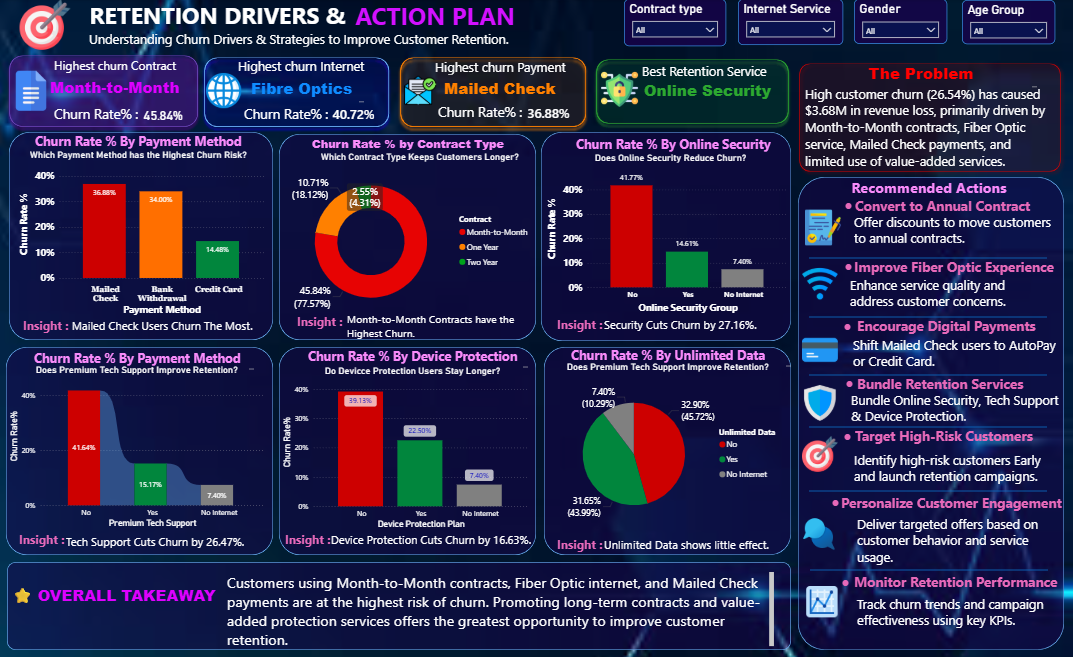

The dashboard page shown, as its layout file describes it:
{"tool":"powerbi","page":{"name":"Page 3","canvas":[1800,1100],"ordinal":2},"visuals":[{"type":"shape","box":[908.4,222.5,418.2,349.6],"z":0},{"type":"shape","box":[913.4,582.2,413.2,348],"z":1000},{"type":"shape","box":[470.1,582.2,429.9,348],"z":2000},{"type":"shape","box":[470.1,225.8,429.9,344.6],"z":3000},{"type":"shape","box":[13.4,582.2,446.7,348],"z":4000},{"type":"shape","box":[18.4,222.5,441.6,348],"z":5000},{"type":"textbox","title":"RETENTION DRIVERS &","box":[137.2,0,460,48.5],"z":6000},{"type":"textbox","title":"ACTION PLAN","box":[483.5,0,495.2,46.8],"z":7000},{"type":"textbox","title":"Understanding Churn Drivers & Strategies to Improve Customer Retention.","box":[147.2,51.9,752.8,36.8],"z":8000},{"type":"slicer","title":"Contract type","fields":{"Values":["cleaned_tc_cust_churn.Contract"]},"box":[1047.2,0,170.6,78.6],"z":9000},{"type":"slicer","title":"Internet Service","fields":{"Values":["cleaned_tc_cust_churn.Internet Service"]},"box":[1237.9,0,175.7,77],"z":10000},{"type":"slicer","title":"Gender","fields":{"Values":["cleaned_tc_cust_churn.gender short"]},"box":[1432,0,155.6,75.3],"z":11000},{"type":"slicer","title":"Age Group","fields":{"Values":["cleaned_tc_cust_churn.Age Group"]},"box":[1612.6,1.7,155.6,73.6],"z":12000},{"type":"shape","box":[9.5,85.3,333.4,137.5],"z":13000},{"type":"textbox","title":"Highest churn Contract","box":[88.5,96.4,218,26.9],"z":14000},{"type":"donutChart","title":"Churn Rate % by Contract Type","fields":{"Category":["cleaned_tc_cust_churn.Contract"],"Y":["cleaned_tc_cust_churn.ChurnFlag"]},"box":[471.7,227.5,428.3,329.6],"z":15000},{"type":"textbox","title":"Month-to-Month","box":[82.2,129.6,240.1,44.2],"z":16000},{"type":"textbox","title":"Churn Rate% :","box":[88.5,177,164.3,33.2],"z":17000},{"type":"cardVisual","title":"Avg Age","fields":{"Data":["cleaned_tc_cust_churn.Churn Rate%"],"Rows":["cleaned_tc_cust_churn.Contract"]},"box":[213.3,112.2,142.2,131.1],"z":18000},{"type":"shape","box":[336.5,88.5,327,134.3],"z":19000},{"type":"textbox","title":"Highest churn Internet","box":[396.6,96.4,233.8,36.3],"z":20000},{"type":"textbox","title":"Fibre Optics","box":[418.2,130.5,199.1,46.8],"z":21000},{"type":"shape","box":[663.6,88.5,328.6,134.3],"z":22000},{"type":"cardVisual","fields":{"Data":["cleaned_tc_cust_churn.Churn Rate%"],"Rows":["cleaned_tc_cust_churn.Internet Type"]},"box":[530.9,112.2,132.7,126.4],"z":23000},{"type":"textbox","title":"Highest churn Payment","box":[726,98.7,229.2,28.4],"z":24000},{"type":"shape","box":[992,92,339.6,125.5],"z":25000},{"type":"textbox","title":"Mailed Check","box":[741.1,130.5,229.2,45.2],"z":26000},{"type":"cardVisual","fields":{"Data":["cleaned_tc_cust_churn.Churn Rate%"],"Rows":["cleaned_tc_cust_churn.Payment Method"]},"box":[856.3,104.3,132.7,137.5],"z":27000},{"type":"textbox","title":"Online Security","box":[1075.7,133.8,245.9,38.5],"z":28000},{"type":"textbox","title":"Best Retention Service","box":[1072.3,105.4,249.3,55.2],"z":29000},{"type":"columnChart","title":"Churn Rate by Payment Method","fields":{"Category":["cleaned_tc_cust_churn.Payment Method"],"Y":["cleaned_tc_cust_churn.Churn Rate%"]},"box":[30.1,272.7,419.9,276],"z":30000},{"type":"clusteredColumnChart","title":"Churn Rate by Online Security","fields":{"Category":["cleaned_tc_cust_churn.Online Security Group"],"Y":["cleaned_tc_cust_churn.ChurnFlag"]},"box":[913.4,272.7,413.2,257.6],"z":31000},{"type":"ribbonChart","title":"Churn Rate by Premium Tech Support","fields":{"Category":["cleaned_tc_cust_churn.Premium Tech Support"],"Y":["cleaned_tc_cust_churn.Churn Rate%"]},"box":[13.4,607.2,436.6,297.8],"z":32000},{"type":"lineClusteredColumnComboChart","title":"Churn Rate by Device Protection","fields":{"Category":["cleaned_tc_cust_churn.Device Protection Plan"],"Y":["cleaned_tc_cust_churn.Churn Rate%"]},"box":[470.1,620.6,421.6,271],"z":33000},{"type":"pieChart","title":"Churn Rate by Unlimited Data","fields":{"Category":["cleaned_tc_cust_churn.Unlimited Data"],"Y":["cleaned_tc_cust_churn.ChurnFlag"]},"box":[916.7,629,404.8,264.3],"z":34000},{"type":"textbox","title":"Which Payment Method  has the Highest Churn Risk?","box":[49,246.5,391.8,26.9],"z":35000},{"type":"textbox","title":"Churn Rate% :","box":[731.5,173.8,153.3,33.2],"z":36000},{"type":"textbox","title":"Churn Rate% :","box":[406,177,164.3,33.2],"z":37000},{"type":"textbox","title":"Churn Rate % By Payment Method","box":[56.9,222.8,402.9,36.3],"z":38000},{"type":"textbox","title":"Mailed Check Users Churn The Most.","box":[118.8,533.6,331.2,31.8],"z":39000},{"type":"textbox","title":"Insight :","box":[37,532.4,86.9,31.6],"z":40000},{"type":"textbox","title":"Churn Rate % By Online Security","box":[961.9,227.5,341.3,36.8],"z":41000},{"type":"textbox","title":"Which Contract Type Keeps  Customers Longer?","box":[535.6,249.6,391.8,26.9],"z":42000},{"type":"textbox","title":"Insight :","box":[495,525,86.9,31.6],"z":43000},{"type":"textbox","title":"Month-to-Month Contracts have the Highest Churn.","box":[578.8,523.6,306.1,48.5],"z":44000},{"type":"textbox","title":"Does Online Security Reduce Churn?","box":[993.7,250.9,276,26.8],"z":45000},{"type":"textbox","title":"Insight :","box":[930.1,530.3,100.4,31.8],"z":46000},{"type":"textbox","title":"Security Cuts Churn by 27.16%.","box":[1008.7,532,336.2,30.1],"z":47000},{"type":"textbox","title":"Churn Rate % By Payment Method","box":[55.2,585.5,378.1,38.5],"z":48000},{"type":"textbox","title":"Does Premium Tech Support Improve Retention?","box":[58.6,605.6,391.4,26.8],"z":49000},{"type":"textbox","title":"Insight :","box":[30.1,890,87,31.8],"z":50000},{"type":"textbox","title":"Tech Support Cuts Churn by 26.47%.","box":[108.7,895,331.2,31.8],"z":51000},{"type":"textbox","title":"Churn Rate % By Device Protection","box":[513.6,582.2,378.1,38.5],"z":52000},{"type":"textbox","title":"Churn Rate % By Unlimited Data","box":[953.5,580.5,378.1,38.5],"z":53000},{"type":"textbox","title":"Does Premium Tech Support Improve Retention?","box":[946.8,600.6,391.4,26.8],"z":54000},{"type":"textbox","title":"Do Devicce Protection Users Stay Longer?","box":[542,607.2,321.2,26.8],"z":55000},{"type":"textbox","title":"Insight :","box":[475,890,87,31.8],"z":56000},{"type":"textbox","title":"Device Protection Cuts Churn by 16.63%.","box":[552,891.6,379.7,31.8],"z":57000},{"type":"textbox","title":"Insight :","box":[930.1,898.3,87,31.8],"z":58000},{"type":"textbox","title":"Unlimited Data shows little effect.","box":[1008.7,900,312.8,31.8],"z":59000},{"type":"shape","box":[15.1,941.8,1311.5,147.2],"z":60000},{"type":"textbox","title":"Customers using Month-to-Month contracts, Fiber Optic internet, and Mailed Check payments are at the highest risk of churn. Promoting long-term contracts and value-added protection services offers the","box":[378.1,953.5,925.1,135.5],"z":61000},{"type":"textbox","title":"⭐ OVERALL TAKEAWAY","box":[18.4,978.6,369.7,70.3],"z":62000},{"type":"shape","box":[1331.6,98.7,455,199.1],"z":63000},{"type":"textbox","title":"The Problem","box":[1345,105.4,398.1,46.8],"z":64000},{"type":"textbox","title":"Customer churn is strongly influenced by contract type, payment method, internet service, and service adoption. Month-to-Month customers, Fiber Optic users, and Mailed Check customers have the highest","box":[1345,138.8,423.2,158.9],"z":65000},{"type":"shape","box":[1338.3,297.8,445,791.3],"z":66000},{"type":"textbox","title":"Recommended Actions","box":[1386.8,297.8,341.3,33.5],"z":67000},{"type":"textbox","title":"Convert to Annual Contract","box":[1428.6,331.2,306.1,36.8],"z":68000},{"type":"textbox","title":"Offer discounts to move customers to annual contracts.","box":[1427,358,349.6,50.2],"z":69000},{"type":"textbox","title":"Improve Fiber Optic Experience","box":[1427,433.3,353,36.8],"z":70000},{"type":"shape","box":[1356.7,414.9,398.1,36.8],"z":71000},{"type":"textbox","title":"Enhance service quality and address customer concerns.","box":[1420.3,463.4,342.9,60.2],"z":72000},{"type":"shape","box":[1356.7,513.6,398.1,36.8],"z":73000},{"type":"textbox","title":"Encourage Digital Payments","box":[1432,532,336.2,36.8],"z":74000},{"type":"textbox","title":"Shift Mailed Check users to AutoPay or Credit Card.","box":[1425.3,563.8,366.4,56.9],"z":75000},{"type":"textbox","title":"Target High-Risk Customers","box":[1428.6,716,336.2,36.8],"z":76000},{"type":"textbox","title":"Bundle Online Security, Tech Support & Device Protection.","box":[1421.9,655.8,361.3,50.2],"z":77000},{"type":"textbox","title":"Bundle Retention Services","box":[1432,629,336.2,36.8],"z":78000},{"type":"textbox","title":"Identify high-risk customers Early and launch retention campaigns.","box":[1427,756.1,354.6,56.9],"z":79000},{"type":"textbox","title":"Personalize Customer Engagement","box":[1405.2,828.1,383.1,35.1],"z":80000},{"type":"shape","box":[1356.7,607.2,398.1,43.5],"z":81000},{"type":"shape","box":[1356.7,694.2,398.1,43.5],"z":82000},{"type":"shape","box":[1356.7,801.3,398.1,43.5],"z":83000},{"type":"textbox","title":"Deliver targeted offers based on customer behavior and service usage.","box":[1432,863.2,354.6,92],"z":84000},{"type":"shape","box":[1358.4,933.5,398.1,43.5],"z":85000},{"type":"textbox","title":"Monitor Retention Performance","box":[1427,960.2,353,36.8],"z":86000},{"type":"textbox","title":"Track churn trends and campaign effectiveness using key KPIs.","box":[1432,997,359.7,60.2],"z":87000},{"type":"image","box":[21.7,92,66.9,123.8],"z":88000},{"type":"image","box":[348,98.7,58.6,108.7],"z":89000},{"type":"image","box":[1008.7,97,61.9,108.7],"z":90000},{"type":"image","box":[679.2,100.4,53.5,105.4],"z":91000},{"type":"image","box":[1350,331.2,60.2,102],"z":92000},{"type":"image","box":[1345,443.3,60.2,65.2],"z":93000},{"type":"image","box":[1345,547,60.2,80.3],"z":94000},{"type":"image","box":[1345,635.7,60.2,80.3],"z":95000},{"type":"image","box":[1345,721,60.2,80.3],"z":96000},{"type":"image","box":[1343.3,960.2,70.3,95.4],"z":97000},{"type":"image","box":[1343.3,854.8,60.2,80.3],"z":98000},{"type":"textbox","title":"•","box":[1411,323,31.8,35.1],"z":99000},{"type":"textbox","title":"•","box":[1410.2,424.9,31.8,35.1],"z":100000},{"type":"textbox","title":"•","box":[1408.6,525.3,31.8,35.1],"z":101000},{"type":"textbox","title":"•","box":[1411.9,620.6,31.8,35.1],"z":102000},{"type":"textbox","title":"•","box":[1408.6,709.3,31.8,35.1],"z":103000},{"type":"textbox","title":"•","box":[1388.5,819.7,31.8,35.1],"z":104000},{"type":"textbox","title":"•","box":[1405.2,953.5,31.8,35.1],"z":105000},{"type":"image","box":[10,0,137.2,85.3],"z":106000}]}

Visuals, with their boxes in screenshot pixels (x1, y1, x2, y2), scaled from the page's 1800x1100 canvas onto the 1073x657 screenshot:
shape: (left=542, top=133, right=791, bottom=342)
shape: (left=544, top=348, right=791, bottom=556)
shape: (left=280, top=348, right=536, bottom=556)
shape: (left=280, top=135, right=536, bottom=341)
shape: (left=8, top=348, right=274, bottom=556)
shape: (left=11, top=133, right=274, bottom=341)
"RETENTION DRIVERS &" textbox: (left=82, top=0, right=356, bottom=29)
"ACTION PLAN" textbox: (left=288, top=0, right=583, bottom=28)
"Understanding Churn Drivers & Strategies to Improve Customer Retention." textbox: (left=88, top=31, right=536, bottom=53)
"Contract type" slicer: (left=624, top=0, right=726, bottom=47)
"Internet Service" slicer: (left=738, top=0, right=843, bottom=46)
"Gender" slicer: (left=854, top=0, right=946, bottom=45)
"Age Group" slicer: (left=961, top=1, right=1054, bottom=45)
shape: (left=6, top=51, right=204, bottom=133)
"Highest churn Contract" textbox: (left=53, top=58, right=183, bottom=74)
"Churn Rate % by Contract Type" donutChart: (left=281, top=136, right=536, bottom=333)
"Month-to-Month" textbox: (left=49, top=77, right=192, bottom=104)
"Churn Rate% :" textbox: (left=53, top=106, right=151, bottom=126)
"Avg Age" cardVisual: (left=127, top=67, right=212, bottom=145)
shape: (left=201, top=53, right=396, bottom=133)
"Highest churn Internet" textbox: (left=236, top=58, right=376, bottom=79)
"Fibre Optics" textbox: (left=249, top=78, right=368, bottom=106)
shape: (left=396, top=53, right=591, bottom=133)
cardVisual - cleaned_tc_cust_churn.Churn Rate% x cleaned_tc_cust_churn.Internet Type: (left=316, top=67, right=396, bottom=143)
"Highest churn Payment" textbox: (left=433, top=59, right=569, bottom=76)
shape: (left=591, top=55, right=794, bottom=130)
"Mailed Check" textbox: (left=442, top=78, right=578, bottom=105)
cardVisual - cleaned_tc_cust_churn.Churn Rate% x cleaned_tc_cust_churn.Payment Method: (left=510, top=62, right=590, bottom=144)
"Online Security" textbox: (left=641, top=80, right=788, bottom=103)
"Best Retention Service" textbox: (left=639, top=63, right=788, bottom=96)
"Churn Rate by Payment Method" columnChart: (left=18, top=163, right=268, bottom=328)
"Churn Rate by Online Security" clusteredColumnChart: (left=544, top=163, right=791, bottom=317)
"Churn Rate by Premium Tech Support" ribbonChart: (left=8, top=363, right=268, bottom=541)
"Churn Rate by Device Protection" lineClusteredColumnComboChart: (left=280, top=371, right=532, bottom=533)
"Churn Rate by Unlimited Data" pieChart: (left=546, top=376, right=788, bottom=534)
"Which Payment Method  has the Highest Churn Risk?" textbox: (left=29, top=147, right=263, bottom=163)
"Churn Rate% :" textbox: (left=436, top=104, right=527, bottom=124)
"Churn Rate% :" textbox: (left=242, top=106, right=340, bottom=126)
"Churn Rate % By Payment Method" textbox: (left=34, top=133, right=274, bottom=155)
"Mailed Check Users Churn The Most." textbox: (left=71, top=319, right=268, bottom=338)
"Insight :" textbox: (left=22, top=318, right=74, bottom=337)
"Churn Rate % By Online Security" textbox: (left=573, top=136, right=777, bottom=158)
"Which Contract Type Keeps  Customers Longer?" textbox: (left=319, top=149, right=553, bottom=165)
"Insight :" textbox: (left=295, top=314, right=347, bottom=332)
"Month-to-Month Contracts have the Highest Churn." textbox: (left=345, top=313, right=527, bottom=342)
"Does Online Security Reduce Churn?" textbox: (left=592, top=150, right=757, bottom=166)
"Insight :" textbox: (left=554, top=317, right=614, bottom=336)
"Security Cuts Churn by 27.16%." textbox: (left=601, top=318, right=802, bottom=336)
"Churn Rate % By Payment Method" textbox: (left=33, top=350, right=258, bottom=373)
"Does Premium Tech Support Improve Retention?" textbox: (left=35, top=362, right=268, bottom=378)
"Insight :" textbox: (left=18, top=532, right=70, bottom=551)
"Tech Support Cuts Churn by 26.47%." textbox: (left=65, top=535, right=262, bottom=554)
"Churn Rate % By Device Protection" textbox: (left=306, top=348, right=532, bottom=371)
"Churn Rate % By Unlimited Data" textbox: (left=568, top=347, right=794, bottom=370)
"Does Premium Tech Support Improve Retention?" textbox: (left=564, top=359, right=798, bottom=375)
"Do Devicce Protection Users Stay Longer?" textbox: (left=323, top=363, right=515, bottom=379)
"Insight :" textbox: (left=283, top=532, right=335, bottom=551)
"Device Protection Cuts Churn by 16.63%." textbox: (left=329, top=533, right=555, bottom=552)
"Insight :" textbox: (left=554, top=537, right=606, bottom=556)
"Unlimited Data shows little effect." textbox: (left=601, top=538, right=788, bottom=557)
shape: (left=9, top=563, right=791, bottom=650)
"Customers using Month-to-Month contracts, Fiber Optic internet, and Mailed Check payments are at the highest risk of churn. Promoting long-term contracts and value-added protection services offers the" textbox: (left=225, top=569, right=777, bottom=650)
"⭐ OVERALL TAKEAWAY" textbox: (left=11, top=584, right=231, bottom=626)
shape: (left=794, top=59, right=1065, bottom=178)
"The Problem" textbox: (left=802, top=63, right=1039, bottom=91)
"Customer churn is strongly influenced by contract type, payment method, internet service, and service adoption. Month-to-Month customers, Fiber Optic users, and Mailed Check customers have the highest" textbox: (left=802, top=83, right=1054, bottom=178)
shape: (left=798, top=178, right=1063, bottom=650)
"Recommended Actions" textbox: (left=827, top=178, right=1030, bottom=198)
"Convert to Annual Contract" textbox: (left=852, top=198, right=1034, bottom=220)
"Offer discounts to move customers to annual contracts." textbox: (left=851, top=214, right=1059, bottom=244)
"Improve Fiber Optic Experience" textbox: (left=851, top=259, right=1061, bottom=281)
shape: (left=809, top=248, right=1046, bottom=270)
"Enhance service quality and address customer concerns." textbox: (left=847, top=277, right=1051, bottom=313)
shape: (left=809, top=307, right=1046, bottom=329)
"Encourage Digital Payments" textbox: (left=854, top=318, right=1054, bottom=340)
"Shift Mailed Check users to AutoPay or Credit Card." textbox: (left=850, top=337, right=1068, bottom=371)
"Target High-Risk Customers" textbox: (left=852, top=428, right=1052, bottom=450)
"Bundle Online Security, Tech Support & Device Protection." textbox: (left=848, top=392, right=1063, bottom=422)
"Bundle Retention Services" textbox: (left=854, top=376, right=1054, bottom=398)
"Identify high-risk customers Early and launch retention campaigns." textbox: (left=851, top=452, right=1062, bottom=486)
"Personalize Customer Engagement" textbox: (left=838, top=495, right=1066, bottom=516)
shape: (left=809, top=363, right=1046, bottom=389)
shape: (left=809, top=415, right=1046, bottom=441)
shape: (left=809, top=479, right=1046, bottom=505)
"Deliver targeted offers based on customer behavior and service usage." textbox: (left=854, top=516, right=1065, bottom=571)
shape: (left=810, top=558, right=1047, bottom=584)
"Monitor Retention Performance" textbox: (left=851, top=574, right=1061, bottom=595)
"Track churn trends and campaign effectiveness using key KPIs." textbox: (left=854, top=595, right=1068, bottom=631)
image: (left=13, top=55, right=53, bottom=129)
image: (left=207, top=59, right=242, bottom=124)
image: (left=601, top=58, right=638, bottom=123)
image: (left=405, top=60, right=437, bottom=123)
image: (left=805, top=198, right=841, bottom=259)
image: (left=802, top=265, right=838, bottom=304)
image: (left=802, top=327, right=838, bottom=375)
image: (left=802, top=380, right=838, bottom=428)
image: (left=802, top=431, right=838, bottom=479)
image: (left=801, top=574, right=843, bottom=630)
image: (left=801, top=511, right=837, bottom=559)
"•" textbox: (left=841, top=193, right=860, bottom=214)
"•" textbox: (left=841, top=254, right=860, bottom=275)
"•" textbox: (left=840, top=314, right=859, bottom=335)
"•" textbox: (left=842, top=371, right=861, bottom=392)
"•" textbox: (left=840, top=424, right=859, bottom=445)
"•" textbox: (left=828, top=490, right=847, bottom=511)
"•" textbox: (left=838, top=569, right=857, bottom=590)
image: (left=6, top=0, right=88, bottom=51)
